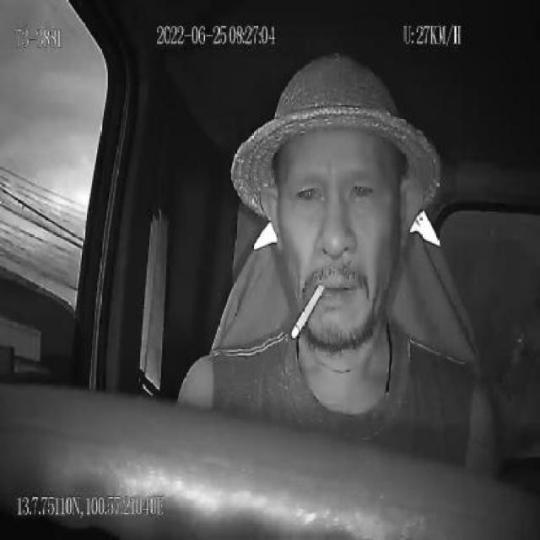smoking: (291, 284, 327, 342)
